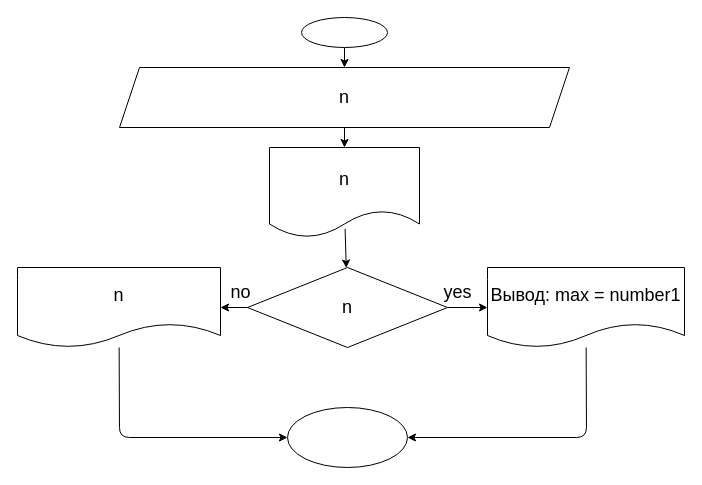
Image size: 702x485. Some labels were removed from this diagram. The box of each missing label's shape, as (x1, y1, x2, y2) in pixels:
end: (286, 406, 408, 468)
Start: (300, 16, 388, 48)
